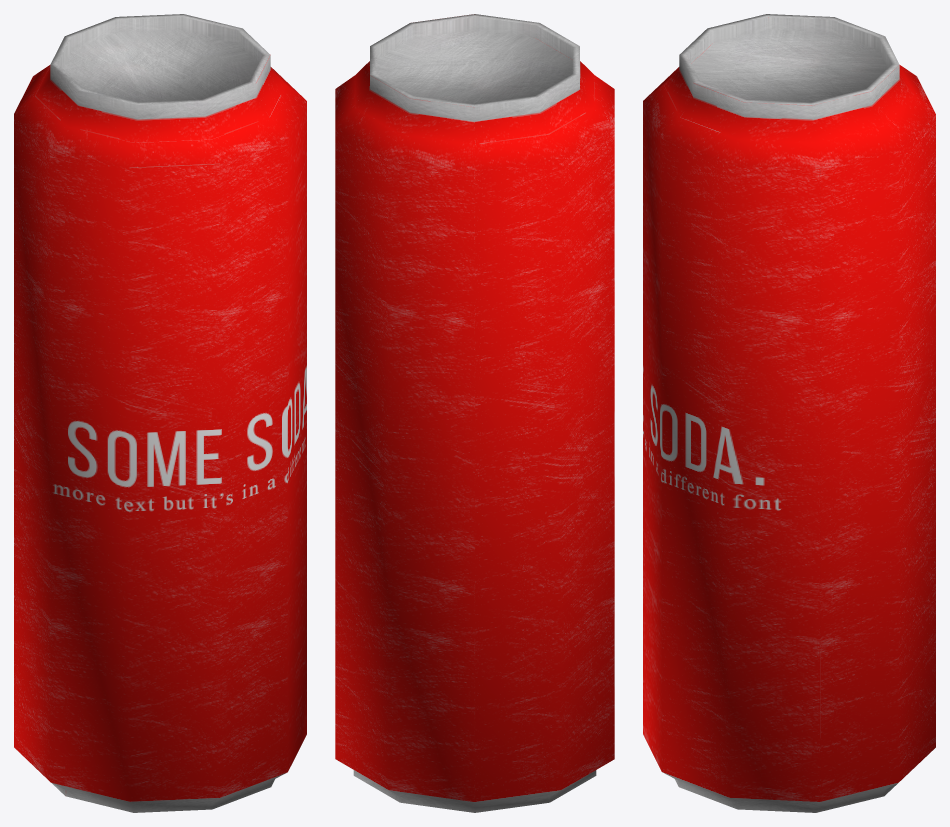
The model's file is can.fbx.
The picture shows the model from 3 angles, left to right: view 1: azimuth 30°, elevation 25°; view 2: azimuth 150°, elevation 25°; view 3: azimuth 270°, elevation 25°; orthographic projection.
Visible parts, largest first — view 1: Can; view 2: Can; view 3: Can.
Boxes of the visible parts, x1=… form: Can: x1=14, y1=14, x2=306, y2=812; Can: x1=335, y1=14, x2=614, y2=812; Can: x1=643, y1=14, x2=935, y2=812.
Bounding box in the file's own units: 5.48 × 14.7 × 5.57.
Materials: 1 (1 with a texture image).
